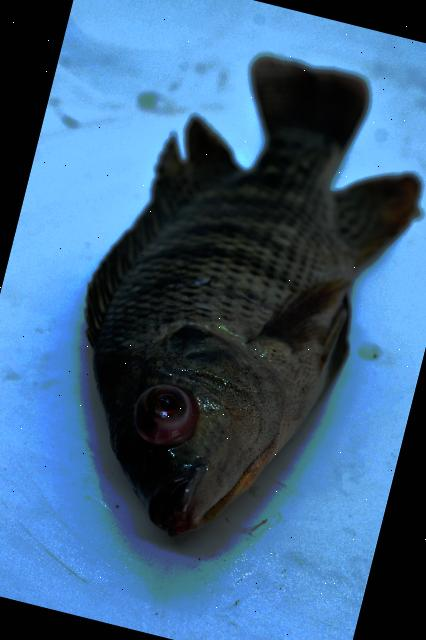Columnaris Disease: (88, 62, 418, 535)
